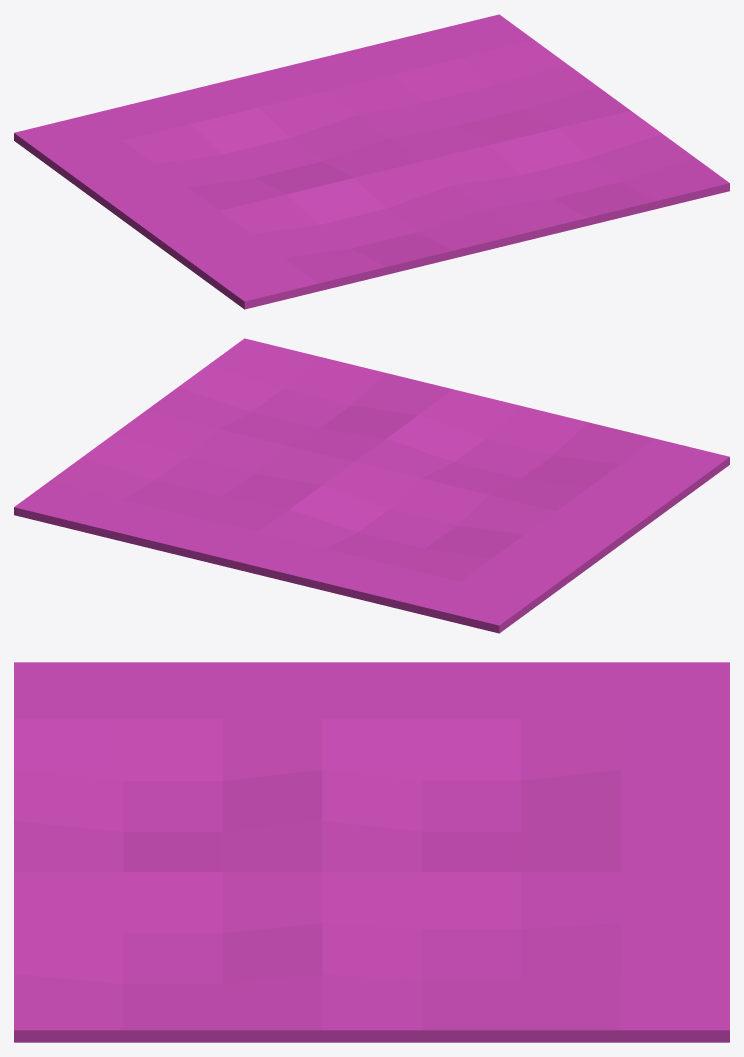
Rendered from PlatformTileNOBomb.fbx.
3 renders of one model, top to bottom at view 1: azimuth 30°, elevation 25°; view 2: azimuth 150°, elevation 25°; view 3: azimuth 270°, elevation 25°, orthographic. The views are drawn at different scales.
Visible parts, largest first — view 1: Cube; view 2: Cube; view 3: Cube.
Boxes of the visible parts, x1,y1,x2,y2 form: Cube: [14, 14, 729, 309]; Cube: [14, 338, 729, 633]; Cube: [14, 662, 729, 1042].
Size of the model in its own units: 661 by 10.36 by 544.
